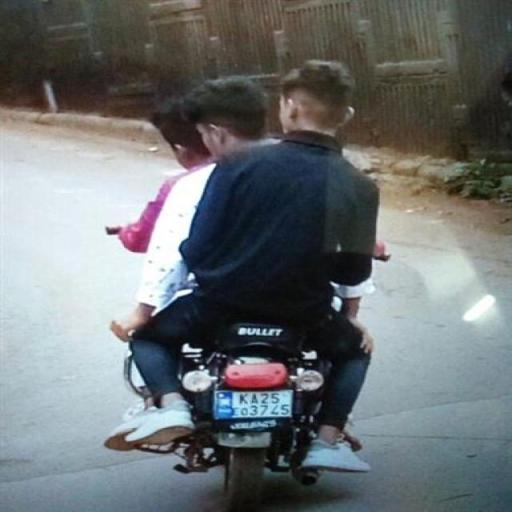tripple riding: (101, 54, 405, 288)
